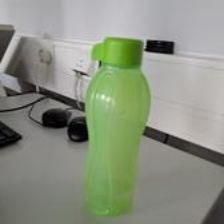bottle: (79, 33, 151, 217)
